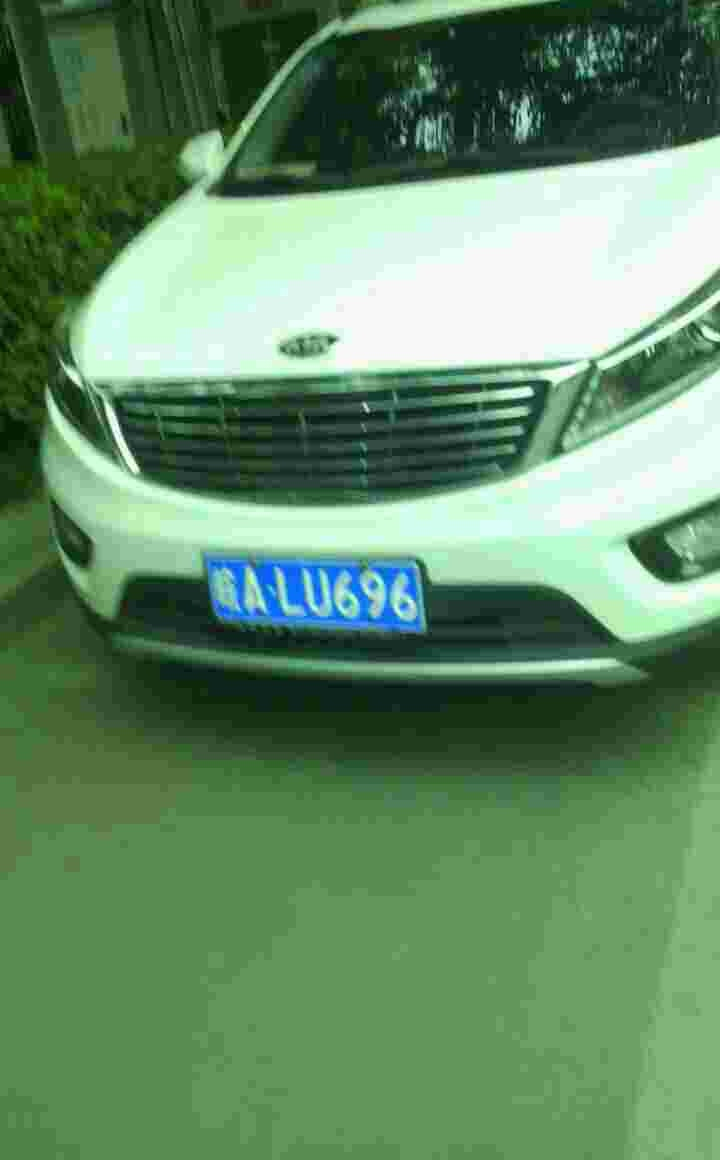license_plate: (213, 562, 429, 633)
